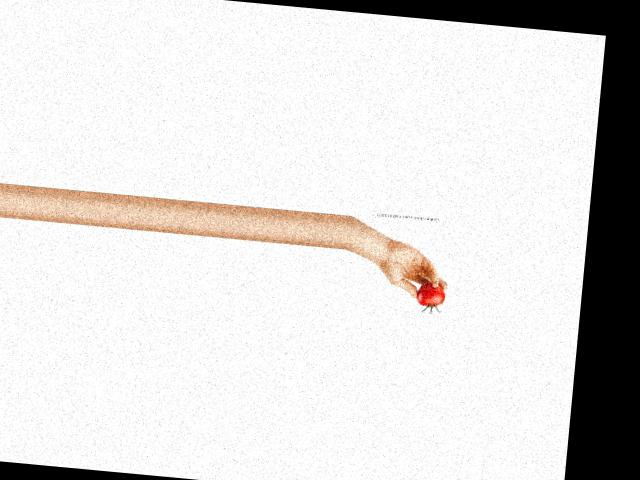tomato: (415, 280, 446, 307)
